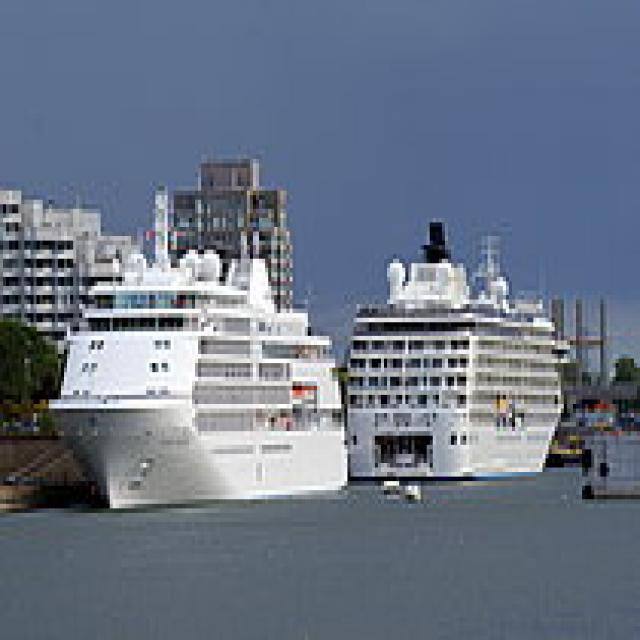Ship: (38, 219, 361, 514), (342, 210, 577, 492)
